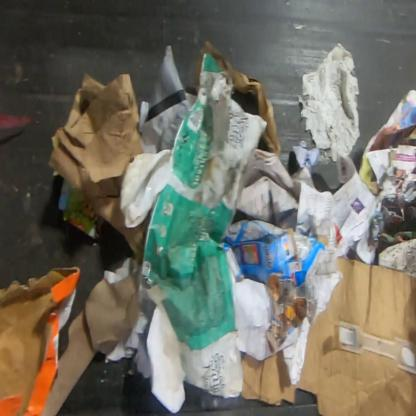cardboard: (241, 254, 415, 415), (0, 263, 141, 415), (48, 73, 145, 248), (220, 216, 328, 358), (194, 40, 282, 155), (57, 176, 109, 244)
